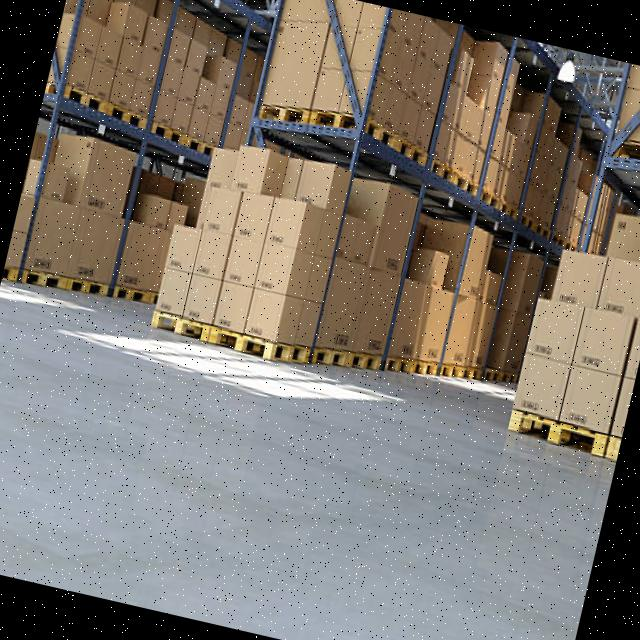Wooden-Pallets: (491, 399, 612, 476), (207, 321, 312, 376), (353, 110, 407, 165), (142, 305, 209, 347), (101, 88, 151, 138), (63, 77, 110, 125), (148, 110, 195, 157), (18, 252, 65, 297), (251, 99, 311, 129), (308, 101, 360, 134), (63, 268, 112, 303), (341, 346, 384, 381), (378, 350, 418, 385)
